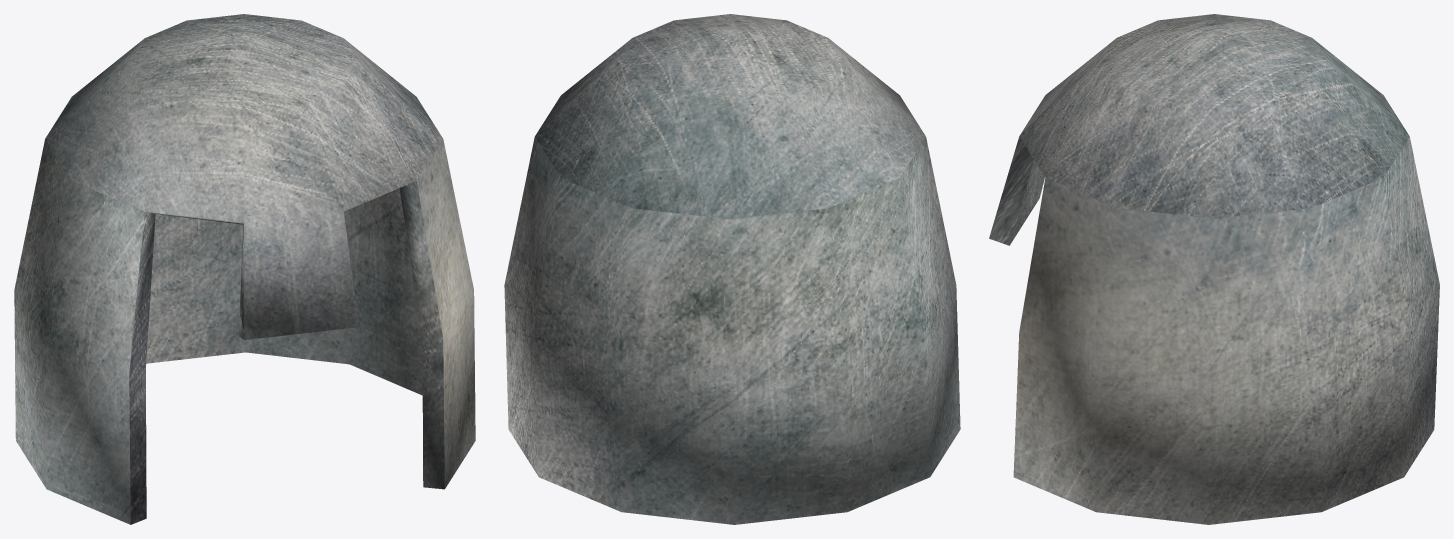
File: armor_helm_1.FBX
3 views of the same model, side by side, from view 1: azimuth 30°, elevation 25°; view 2: azimuth 150°, elevation 25°; view 3: azimuth 270°, elevation 25° (orthographic).
Visible parts, largest first — view 1: Sphere001; view 2: Sphere001; view 3: Sphere001.
Part boxes in pixels (left/top/right/bottom): Sphere001: left=14, top=14, right=475, bottom=524; Sphere001: left=504, top=14, right=960, bottom=524; Sphere001: left=989, top=14, right=1439, bottom=524.
Size of the model in its own units: 51.86 by 50.13 by 51.69.
